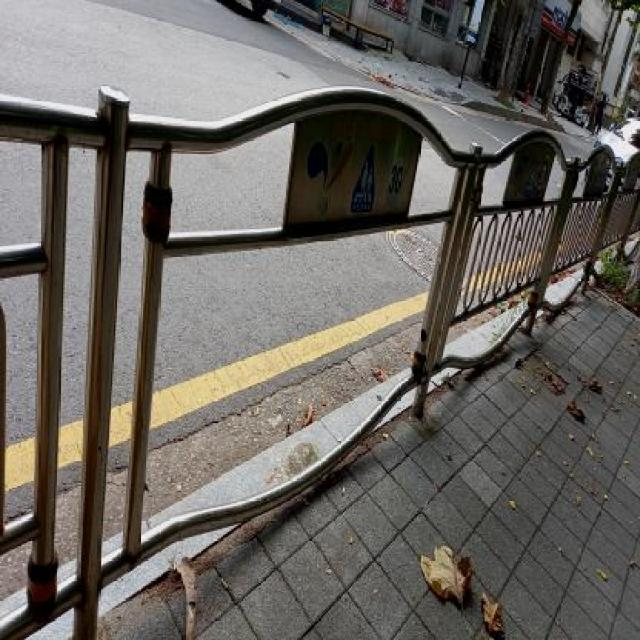fence: (79, 19, 471, 615), (457, 85, 640, 346)
